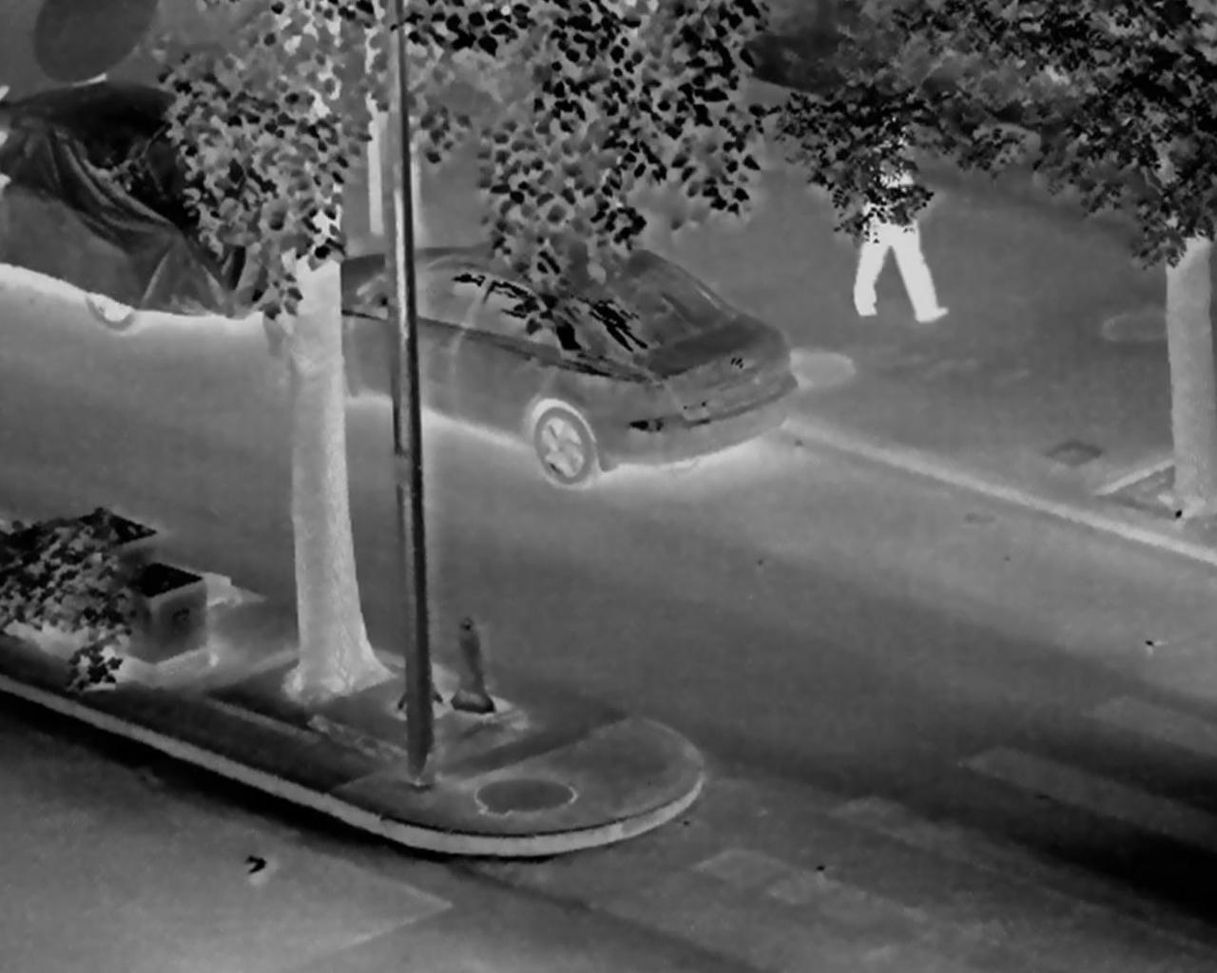person: (853, 113, 954, 330)
